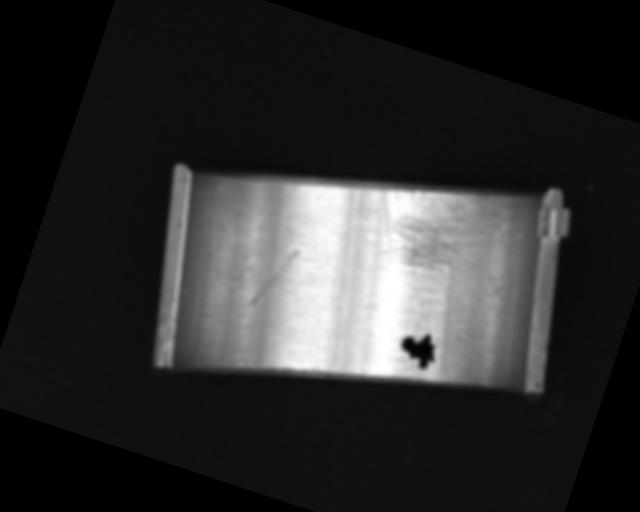blot: (394, 326, 443, 374)
nick: (304, 245, 368, 374), (243, 237, 301, 320)
scratch: (359, 159, 507, 300)
